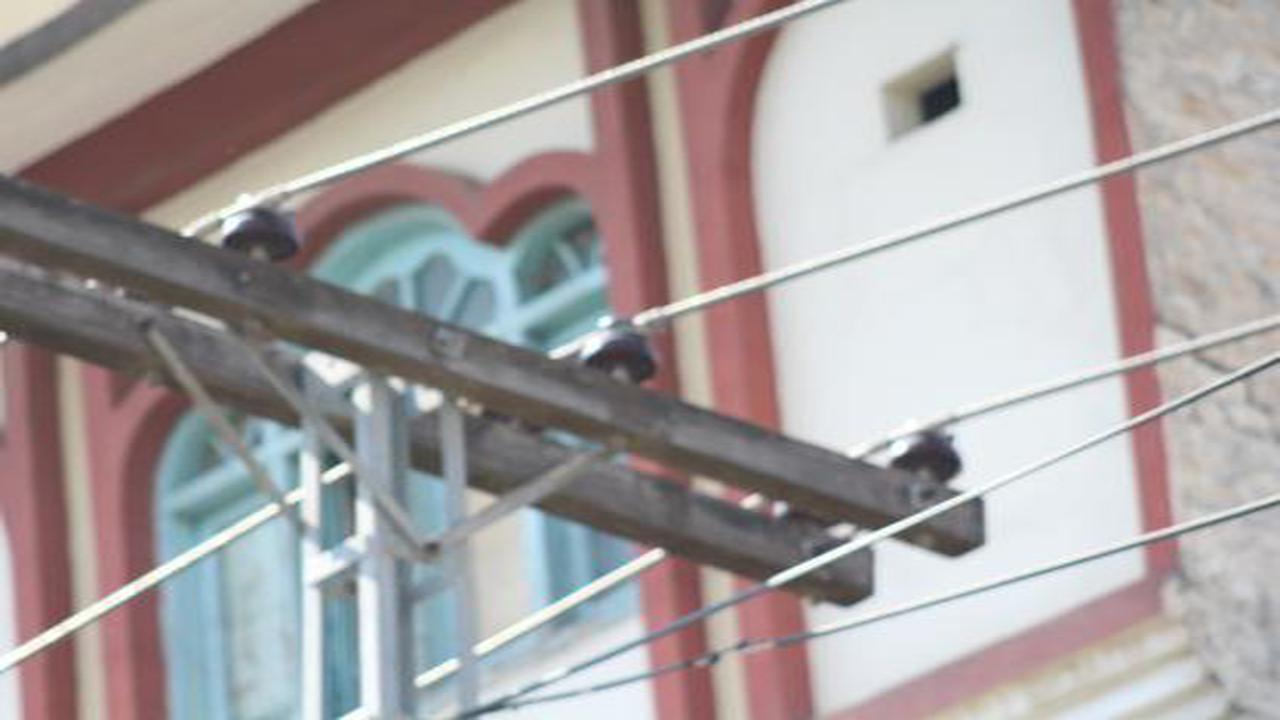insulator_pin: (213, 188, 299, 263), (579, 311, 661, 386), (887, 416, 963, 486)
